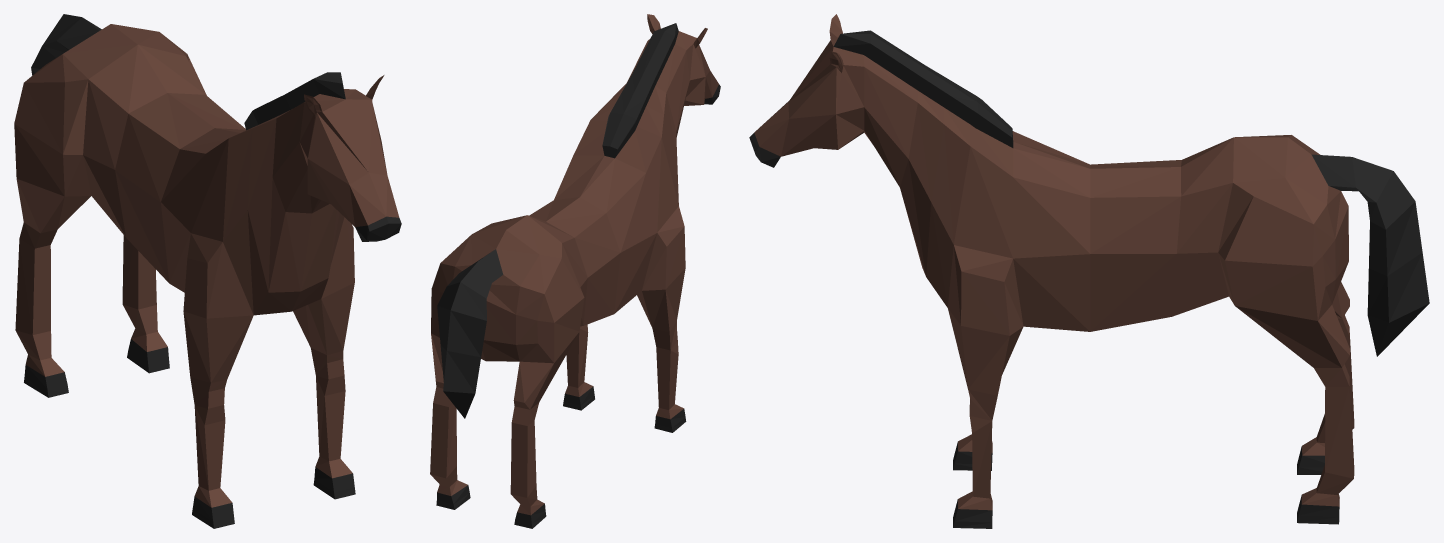
File: horse.glb
3 renders of one model, left to right at view 1: azimuth 30°, elevation 25°; view 2: azimuth 150°, elevation 25°; view 3: azimuth 270°, elevation 25°, orthographic. The views are drawn at different scales.
Parts seen in each view (by area): view 1: horse; view 2: horse; view 3: horse.
Part boxes in pixels (bbox=[...]): horse: bbox=[14, 14, 401, 528]; horse: bbox=[430, 14, 720, 528]; horse: bbox=[749, 14, 1429, 528].
Size of the model in its own units: 0.649 by 1.75 by 2.34.
